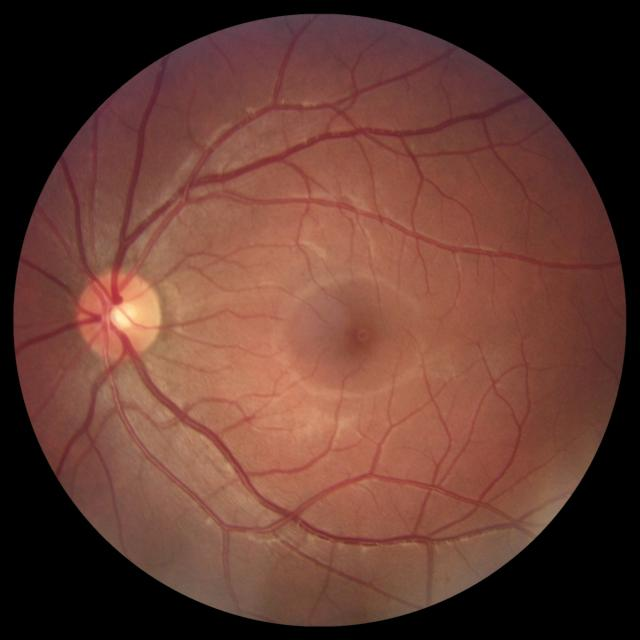OC: (104, 296, 138, 330)
OD: (75, 268, 164, 360)
